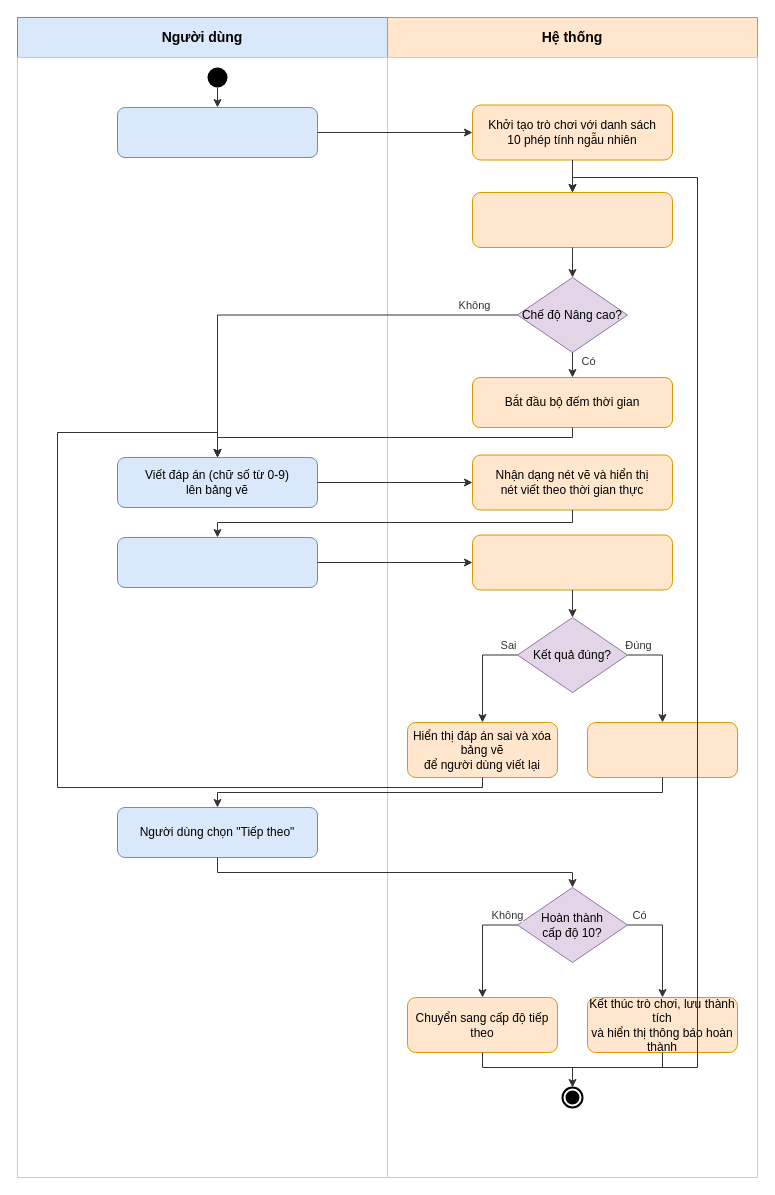
Image size: 775x1195. Some labels were removed from this diagram. Each missing label, with the box of its shape:
Hiển thị phép tính hiện tại, cấp độ, bảng vẽ và các nút chức năng: (472, 192, 672, 248)
Hiển thị đáp án đúng, lưu trạng thái hoàn thành và hiển thị nút "Tiếp theo": (586, 722, 738, 778)
Người dùng chọn "Kiểm tra": (116, 536, 318, 588)
Người dùng chọn chế độ thử thách (Cơ bản / Nâng cao): (116, 106, 318, 158)
Thực hiện nhận dạng chữ số và so sánh với đáp án đúng: (472, 534, 672, 590)
